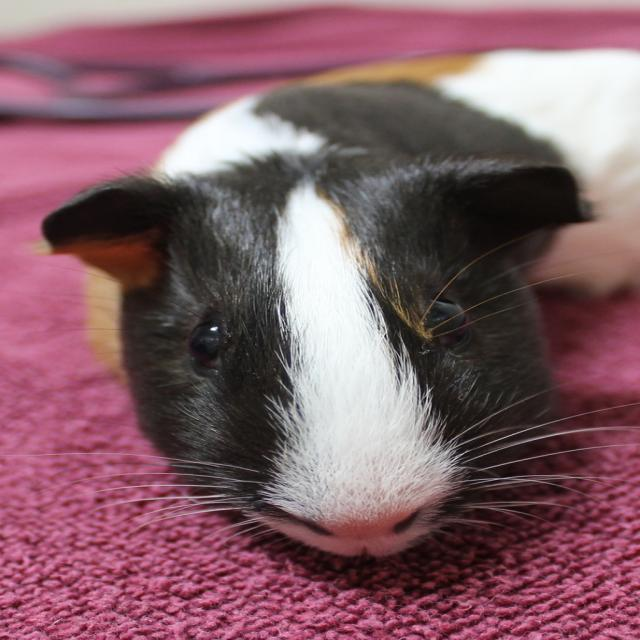rat: (0, 44, 639, 561)
